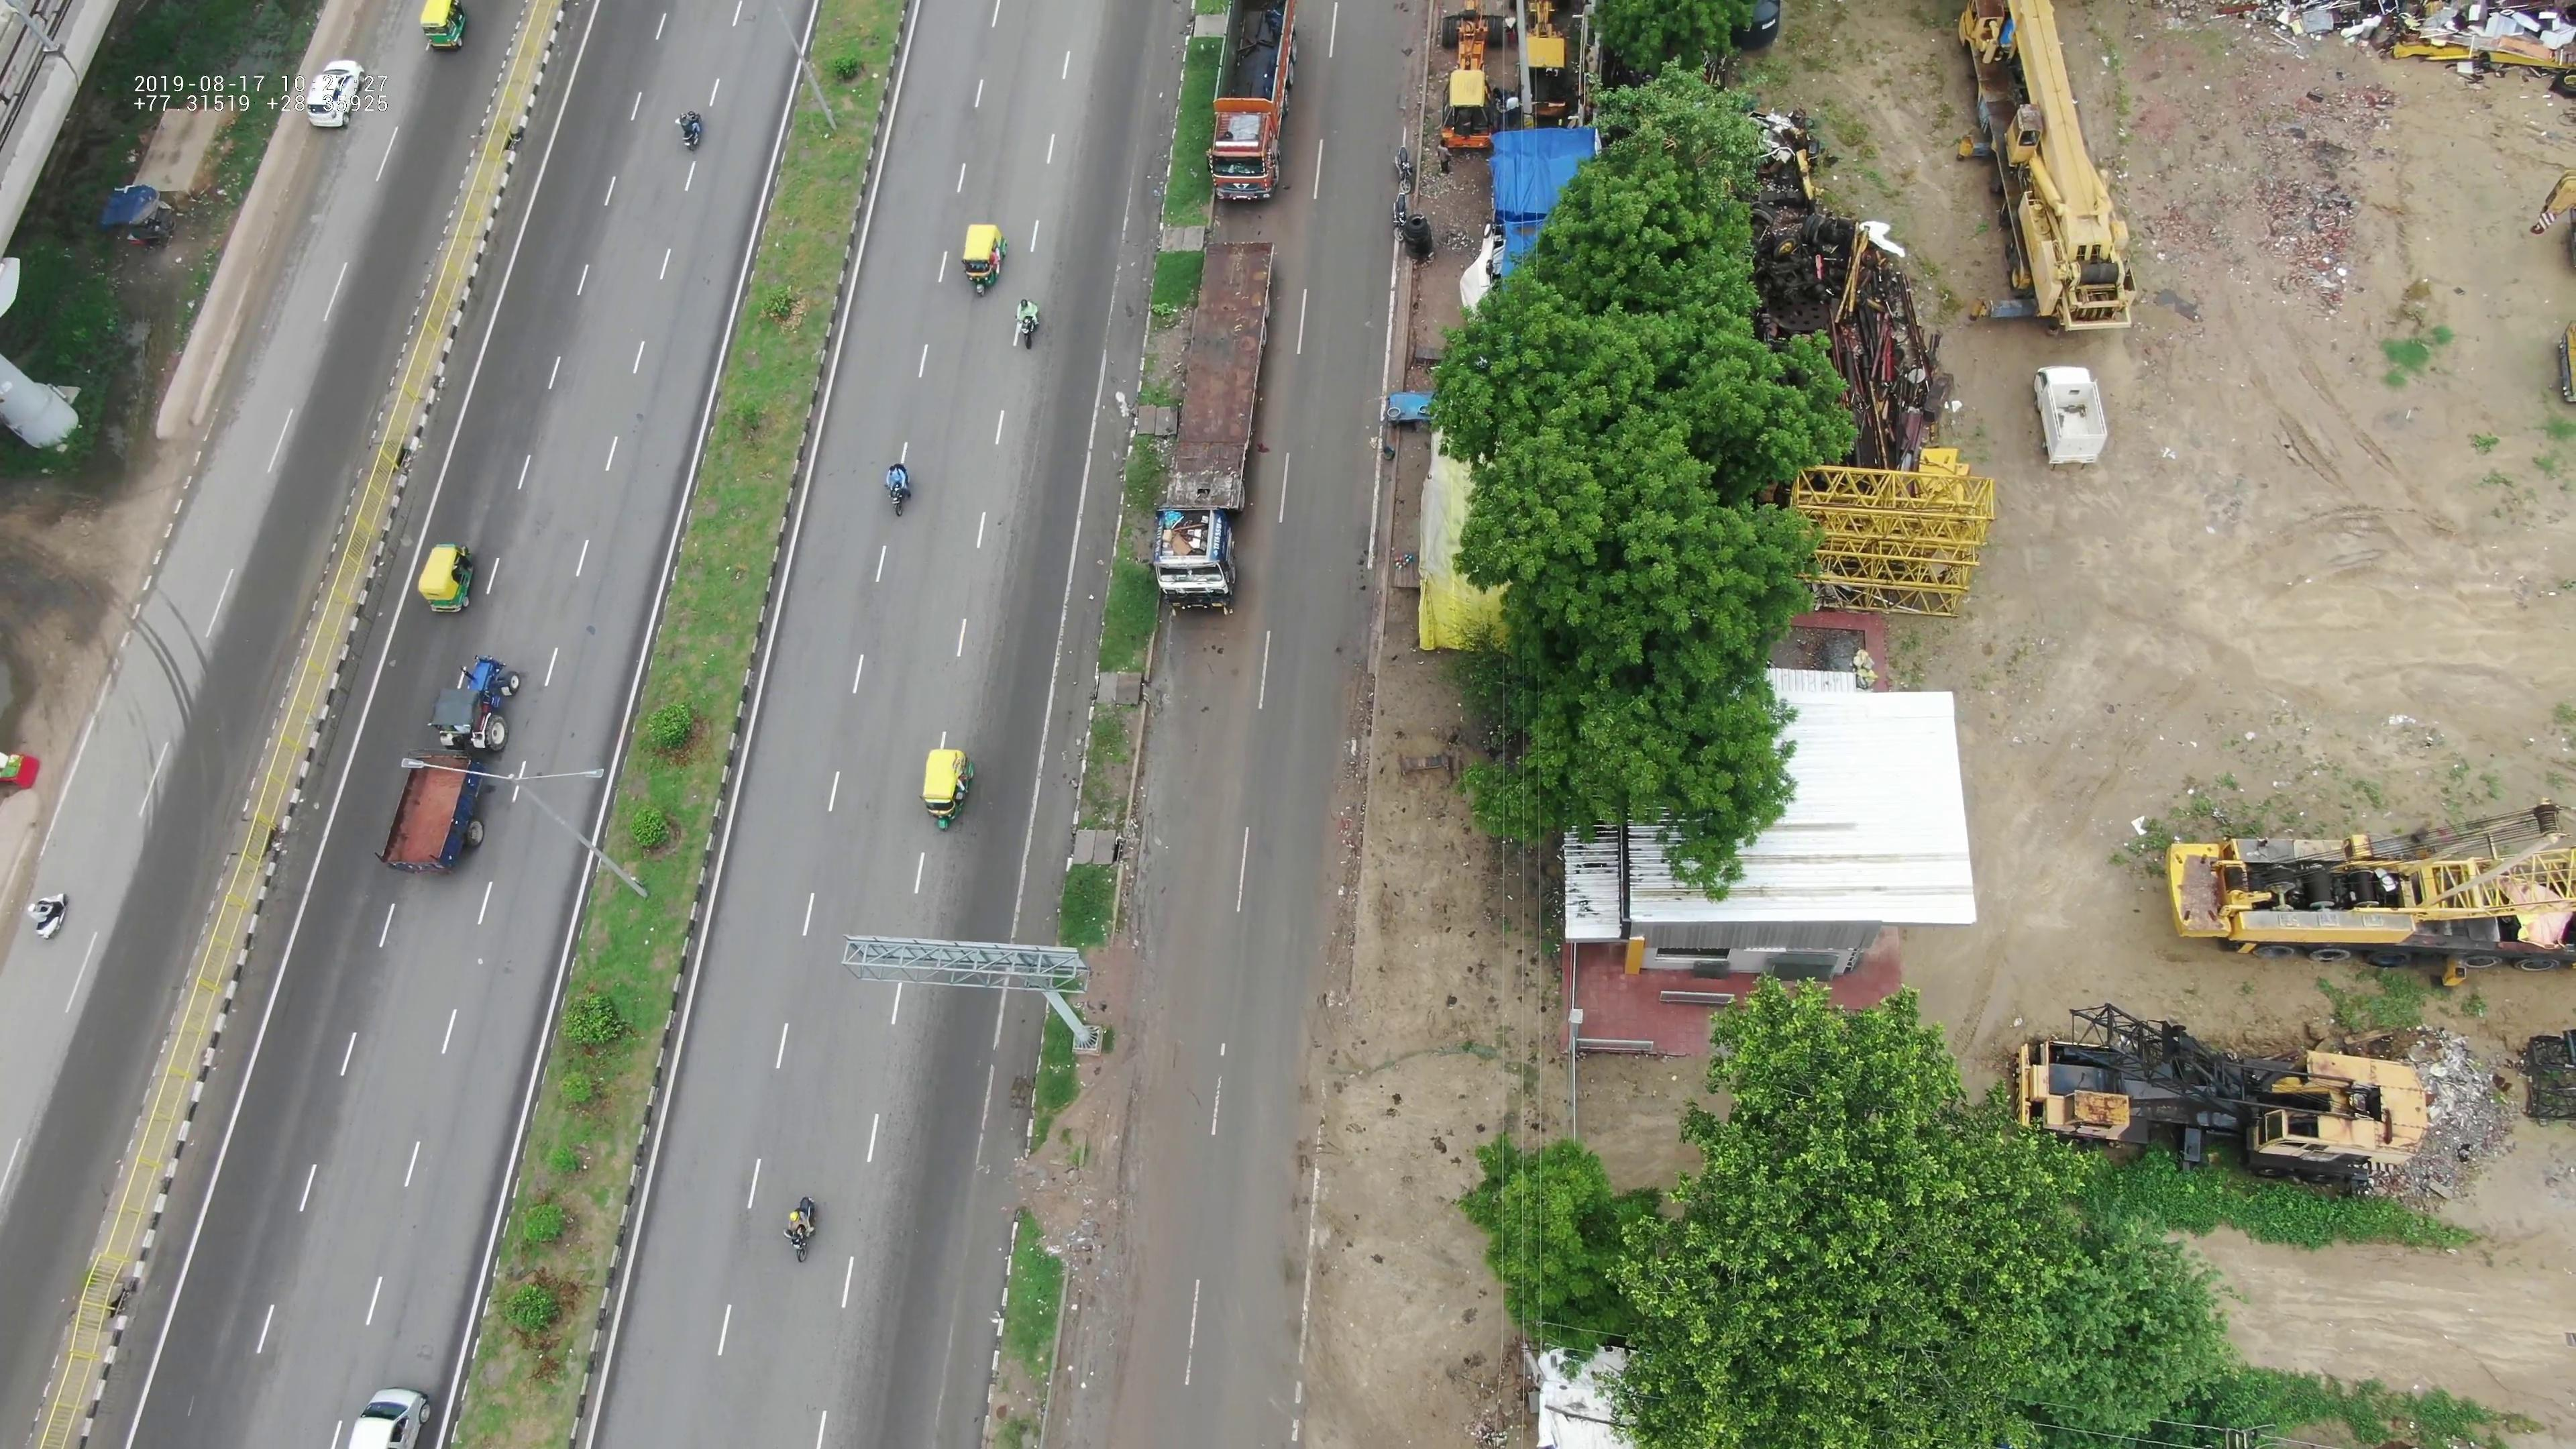Muddy_road: (1047, 1065, 1175, 1385)
